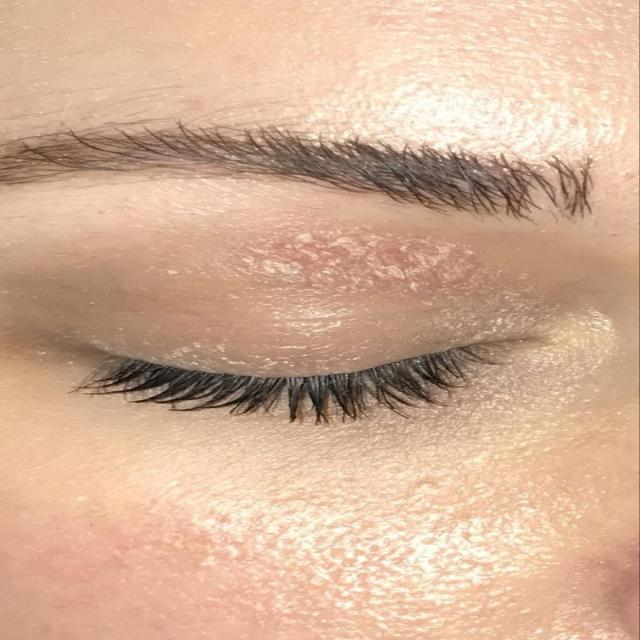oily: (60, 444, 585, 634), (126, 10, 614, 106)
